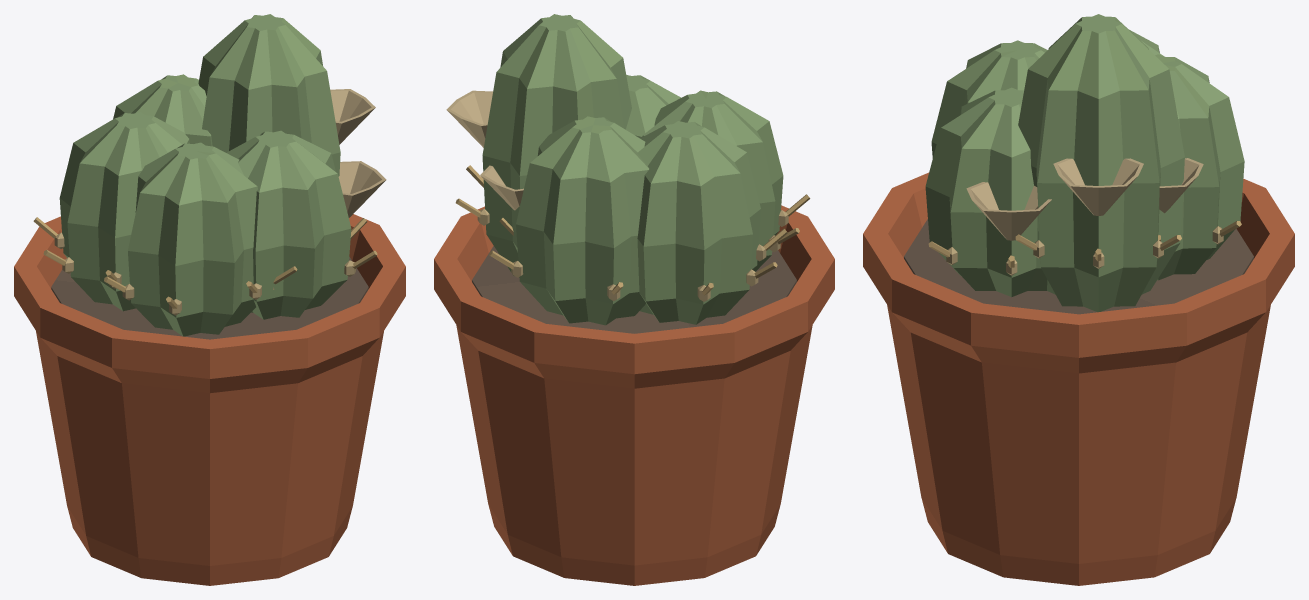
The model's file is new-minuscula.glb.
The picture shows the model from 3 angles, left to right: view 1: azimuth 30°, elevation 25°; view 2: azimuth 150°, elevation 25°; view 3: azimuth 270°, elevation 25°; orthographic projection. The views are drawn at different scales.
Visible parts, largest first — view 1: new-minuscula/review-terra-vessel, new-minuscula/ribbed-stem-046, new-minuscula/ribbed-stem-061, new-minuscula/ribbed-stem-001, new-minuscula/ribbed-stem-031, new-minuscula/review-rooted-soil, new-minuscula/ribbed-stem-016, new-minuscula/hollow-corolla-074, new-minuscula/hollow-corolla-014; view 2: new-minuscula/review-terra-vessel, new-minuscula/ribbed-stem-016, new-minuscula/ribbed-stem-031, new-minuscula/ribbed-stem-001, new-minuscula/ribbed-stem-046, new-minuscula/review-rooted-soil, new-minuscula/ribbed-stem-061, new-minuscula/hollow-corolla-014, new-minuscula/hollow-corolla-029; view 3: new-minuscula/review-terra-vessel, new-minuscula/ribbed-stem-001, new-minuscula/ribbed-stem-061, new-minuscula/ribbed-stem-016, new-minuscula/review-rooted-soil, new-minuscula/ribbed-stem-046, new-minuscula/hollow-corolla-014, new-minuscula/hollow-corolla-074, new-minuscula/hollow-corolla-029.
Part boxes in pixels (left/top/right/bottom): new-minuscula/review-terra-vessel: left=14, top=214, right=405, bottom=585; new-minuscula/ribbed-stem-046: left=128, top=142, right=257, bottom=336; new-minuscula/ribbed-stem-061: left=226, top=130, right=351, bottom=319; new-minuscula/ribbed-stem-001: left=198, top=14, right=340, bottom=176; new-minuscula/ribbed-stem-031: left=59, top=112, right=189, bottom=311; new-minuscula/review-rooted-soil: left=51, top=257, right=368, bottom=339; new-minuscula/ribbed-stem-016: left=113, top=74, right=212, bottom=146; new-minuscula/hollow-corolla-074: left=338, top=161, right=386, bottom=217; new-minuscula/hollow-corolla-014: left=330, top=89, right=375, bottom=144; new-minuscula/review-terra-vessel: left=434, top=205, right=834, bottom=585; new-minuscula/ribbed-stem-016: left=516, top=116, right=648, bottom=325; new-minuscula/ribbed-stem-031: left=637, top=121, right=760, bottom=324; new-minuscula/ribbed-stem-001: left=482, top=14, right=631, bottom=277; new-minuscula/ribbed-stem-046: left=642, top=90, right=783, bottom=271; new-minuscula/review-rooted-soil: left=472, top=246, right=796, bottom=333; new-minuscula/ribbed-stem-061: left=626, top=75, right=680, bottom=138; new-minuscula/hollow-corolla-014: left=446, top=90, right=492, bottom=147; new-minuscula/hollow-corolla-029: left=480, top=165, right=523, bottom=210; new-minuscula/review-terra-vessel: left=863, top=172, right=1294, bottom=585; new-minuscula/ribbed-stem-001: left=1018, top=14, right=1184, bottom=312; new-minuscula/ribbed-stem-061: left=925, top=87, right=1047, bottom=296; new-minuscula/ribbed-stem-016: left=1155, top=54, right=1244, bottom=280; new-minuscula/review-rooted-soil: left=904, top=219, right=1253, bottom=314; new-minuscula/ribbed-stem-046: left=931, top=40, right=1047, bottom=158; new-minuscula/hollow-corolla-014: left=1053, top=158, right=1143, bottom=215; new-minuscula/hollow-corolla-074: left=966, top=182, right=1051, bottom=240; new-minuscula/hollow-corolla-029: left=1159, top=158, right=1203, bottom=213.
Size of the model in its own units: 0.19 by 0.2586 by 0.19.
7 materials, 7 textured.
